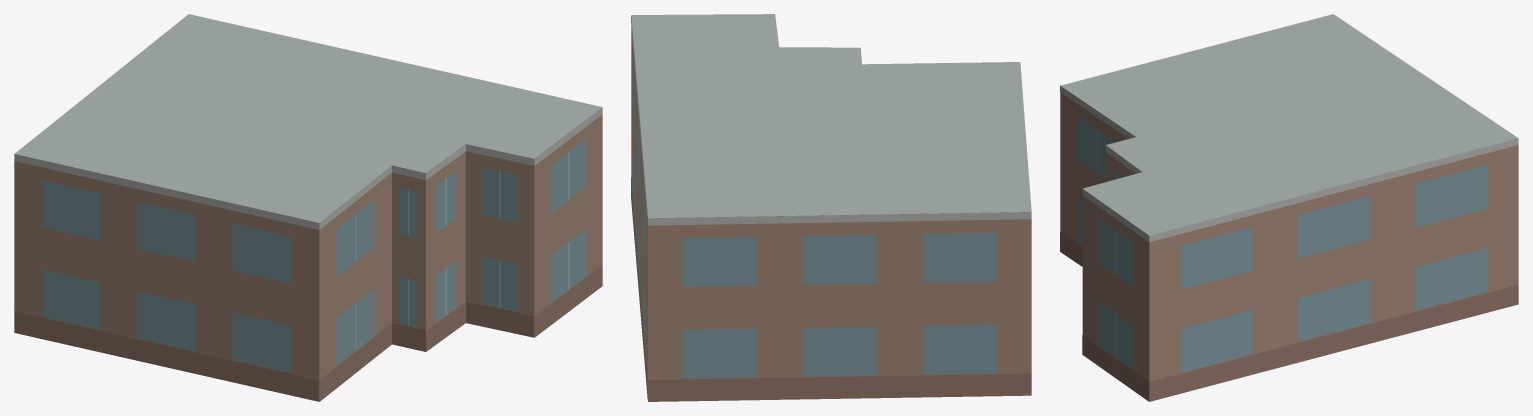
File: survey-upis-32623893.glb
3 renders of one model, left to right at view 1: azimuth 30°, elevation 25°; view 2: azimuth 150°, elevation 25°; view 3: azimuth 270°, elevation 25°, orthographic. The views are drawn at different scales.
Parts seen in each view (by area): view 1: survey-upis-32623893.tmp; view 2: survey-upis-32623893.tmp; view 3: survey-upis-32623893.tmp.
Part boxes in pixels (bbox=[...]): survey-upis-32623893.tmp: bbox=[14, 14, 602, 401]; survey-upis-32623893.tmp: bbox=[631, 14, 1031, 401]; survey-upis-32623893.tmp: bbox=[1060, 14, 1518, 401].
Size of the model in its own units: 17.47 by 6.1 by 15.26.
